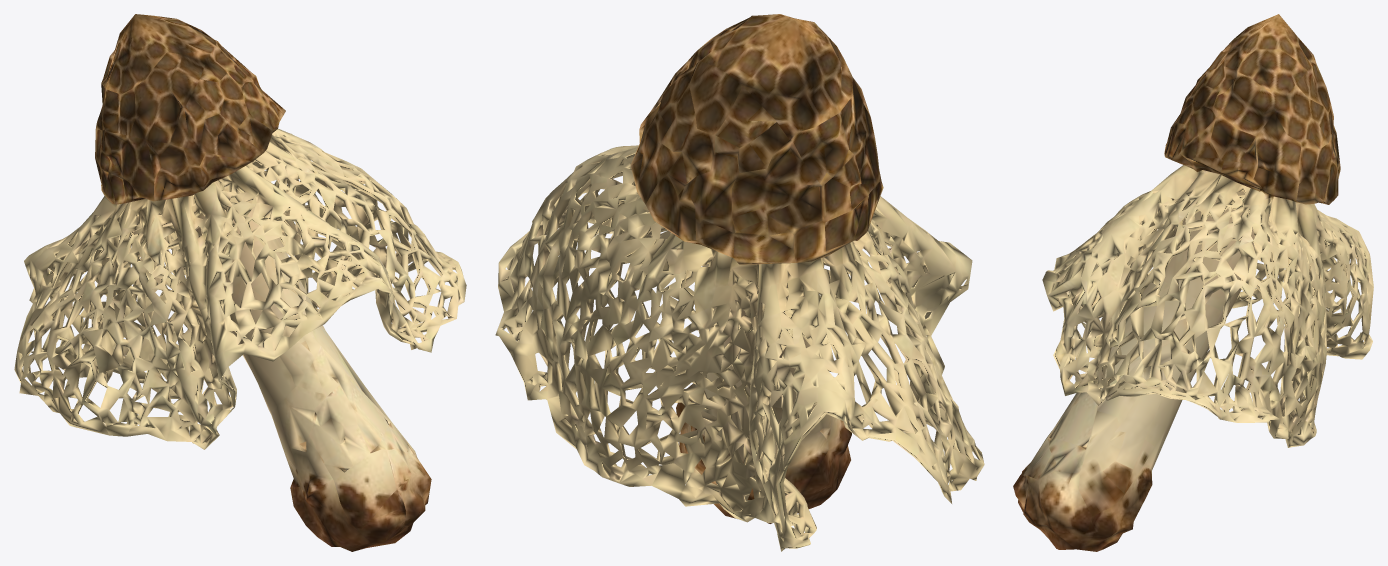
File: bamboofungus.glb
The picture shows the model from 3 angles, left to right: view 1: azimuth 30°, elevation 25°; view 2: azimuth 150°, elevation 25°; view 3: azimuth 270°, elevation 25°; orthographic projection. The views are drawn at different scales.
Parts seen in each view (by area): view 1: tripo_node_8d9bb3e8-a6c3-4c34-a6b4-692f8622537b; view 2: tripo_node_8d9bb3e8-a6c3-4c34-a6b4-692f8622537b; view 3: tripo_node_8d9bb3e8-a6c3-4c34-a6b4-692f8622537b.
Part boxes in pixels (left/top/right/bottom): tripo_node_8d9bb3e8-a6c3-4c34-a6b4-692f8622537b: left=14, top=14, right=466, bottom=551; tripo_node_8d9bb3e8-a6c3-4c34-a6b4-692f8622537b: left=495, top=14, right=984, bottom=551; tripo_node_8d9bb3e8-a6c3-4c34-a6b4-692f8622537b: left=1013, top=14, right=1373, bottom=551.
Bounding box in the file's own units: 0.8092 × 0.9767 × 0.6805.
1 material, 1 textured.
